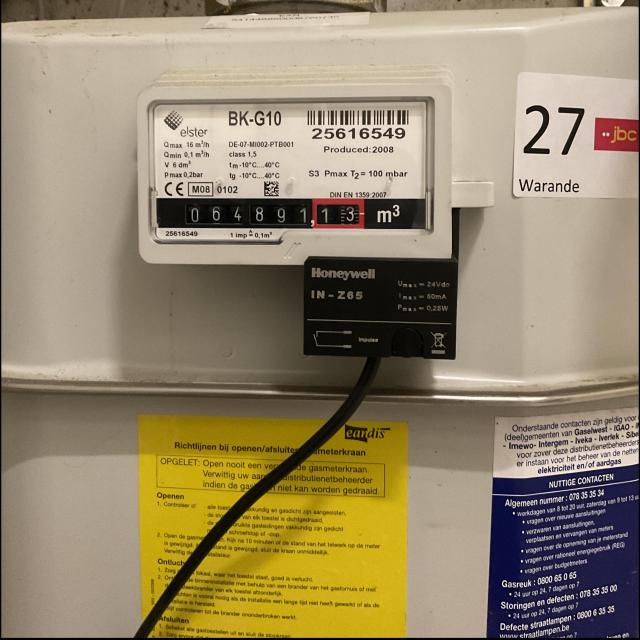gaz_meter: (147, 101, 433, 241)
indication: (158, 196, 365, 227)
